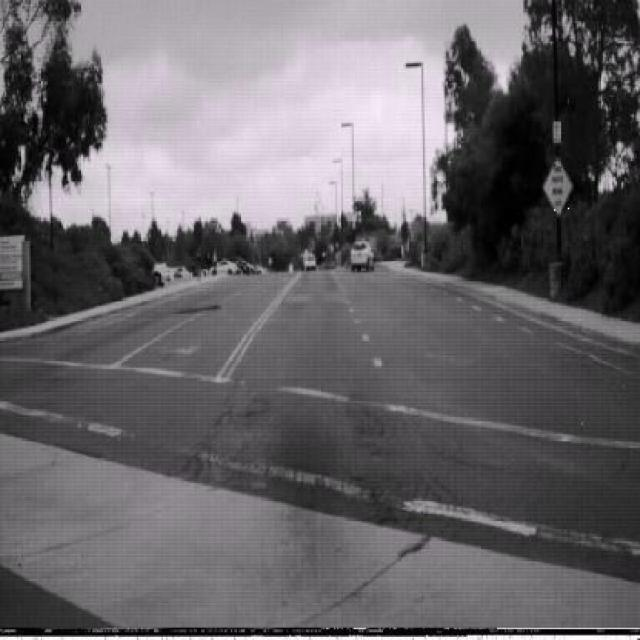thruTrafficMergeLeft: (542, 155, 574, 217)
